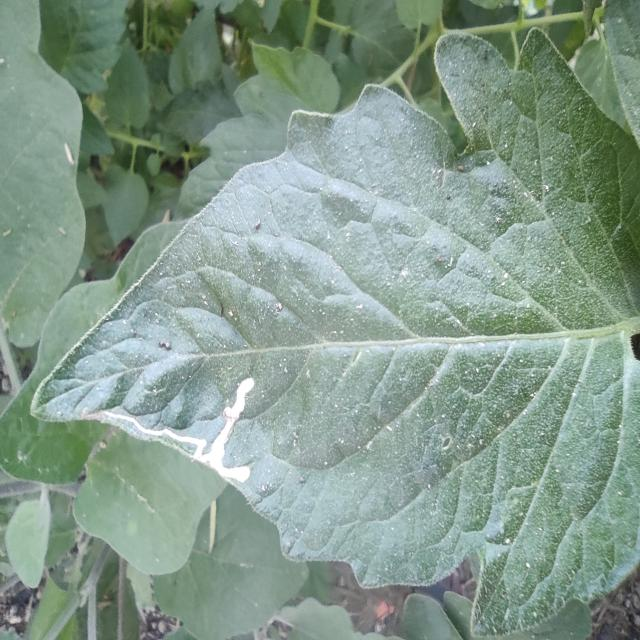Tuta absoluta: (120, 376, 281, 510)
